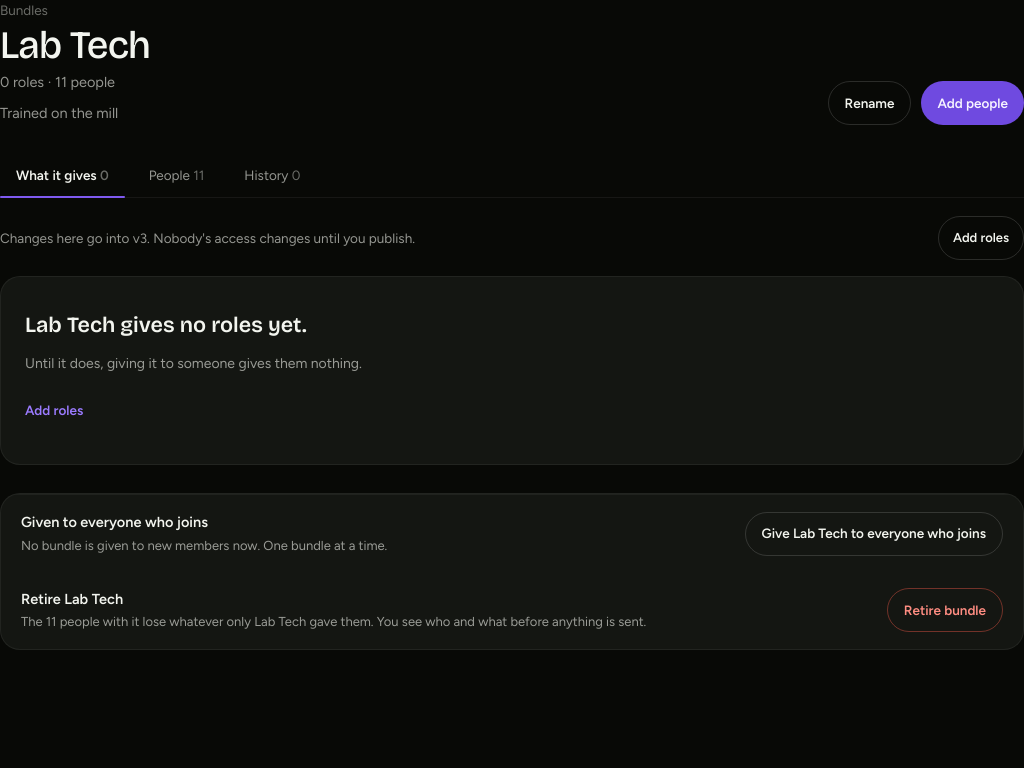
Scenario: bundle rename › shows the rename landed and stays open until Close is pressed
The image size is (1024, 768).
Click the button "Rename". click: (870, 103)
box: [828,81,911,125]
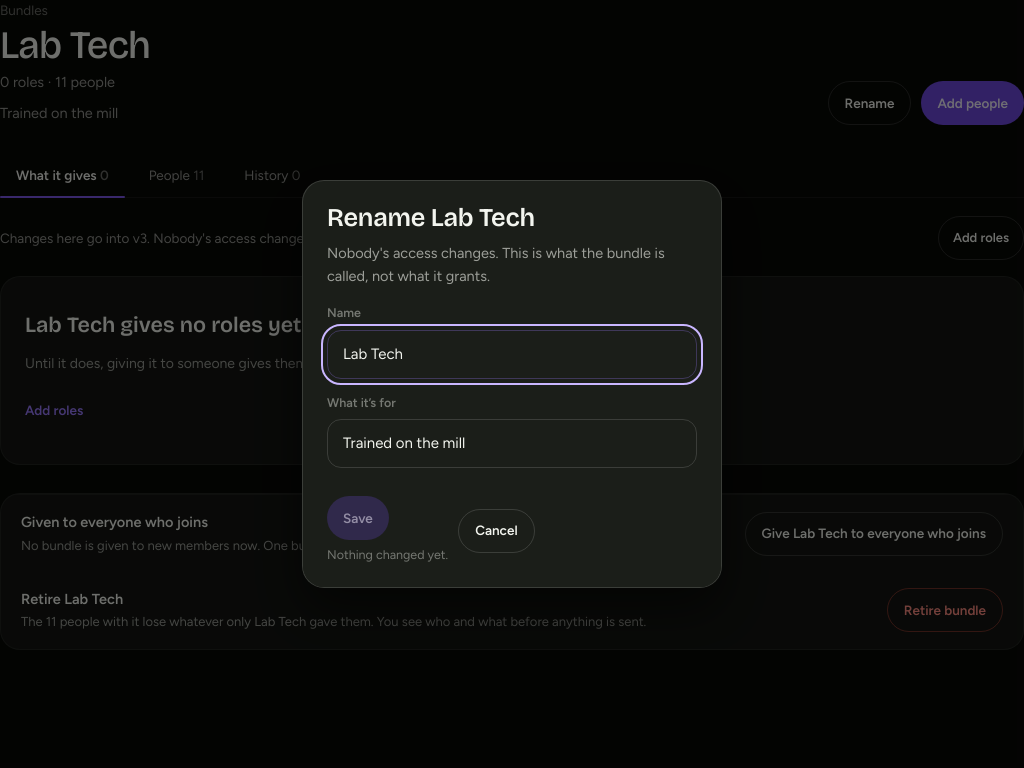
Replace the text in the field labelled "Name" with "Lab Technician". click: (512, 354)
box: [327,330,697,379]
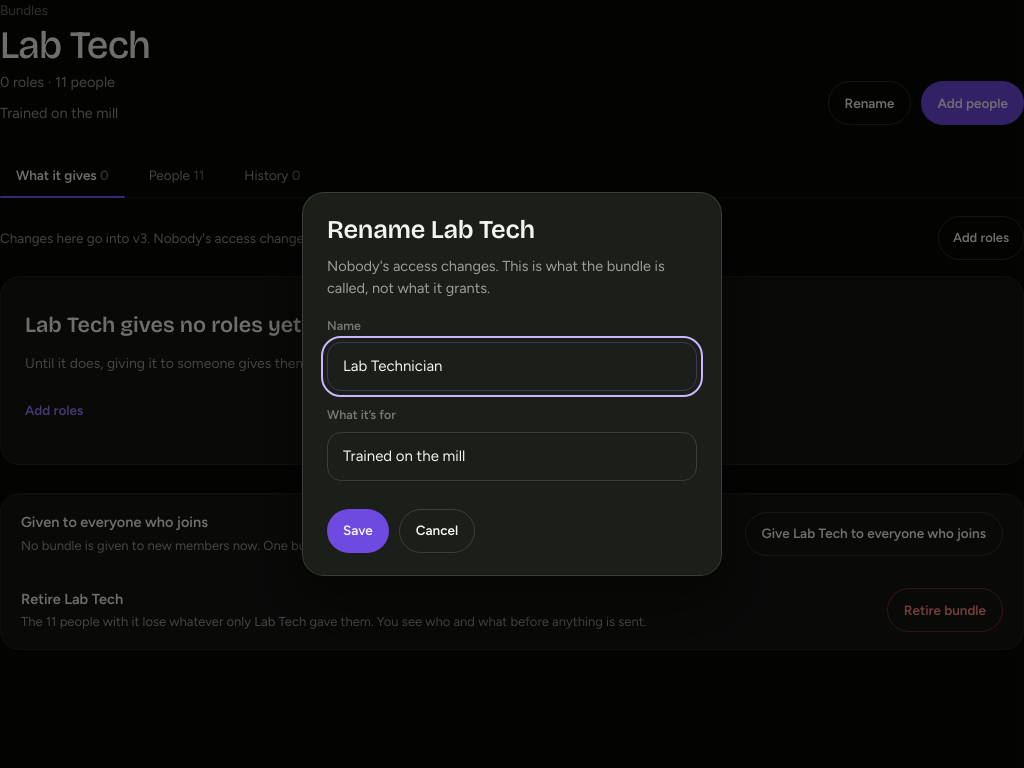
Click the button "Save". click: (358, 531)
box: [327,509,389,553]
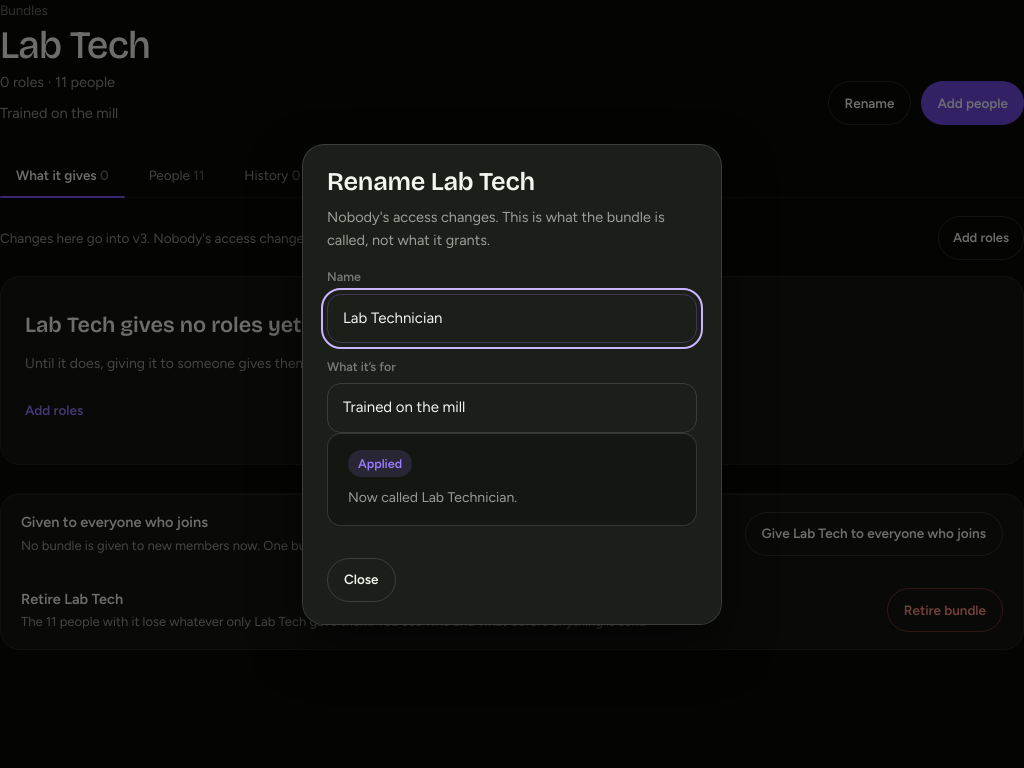
Result: the text "Now called Lab Technician" is shown at [348,489,517,506]
Result: the button "Save" is gone
Click the button "Close". click: (361, 579)
box: [327,557,396,601]
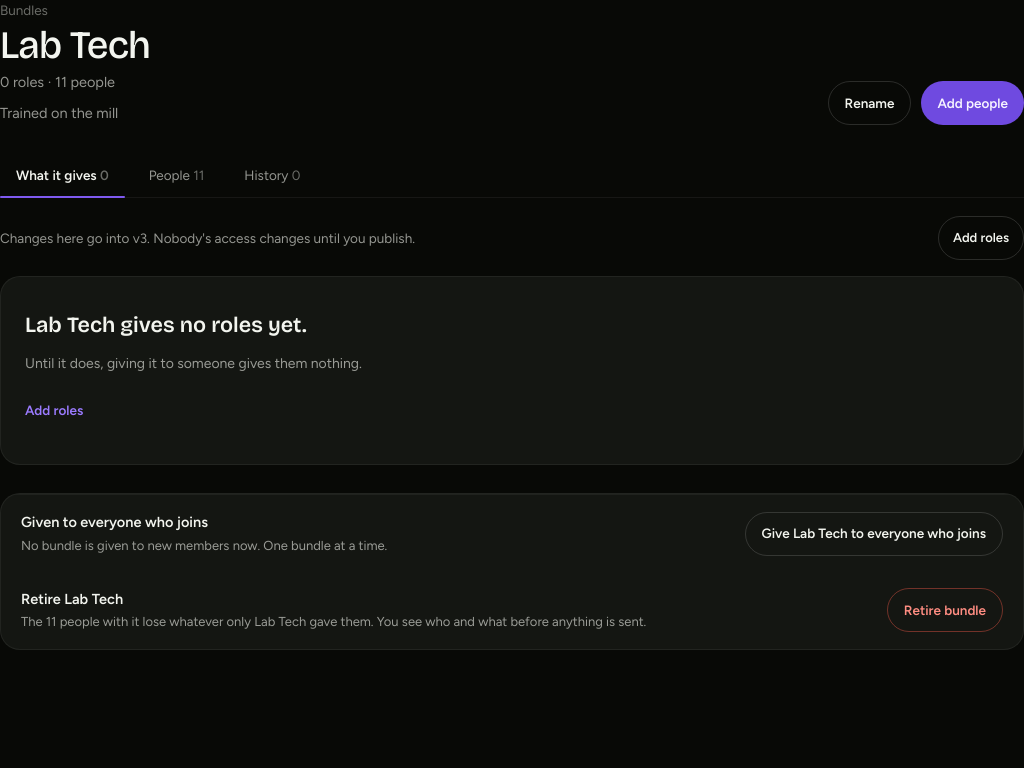
Result: the text "Now called Lab Technician" is gone
